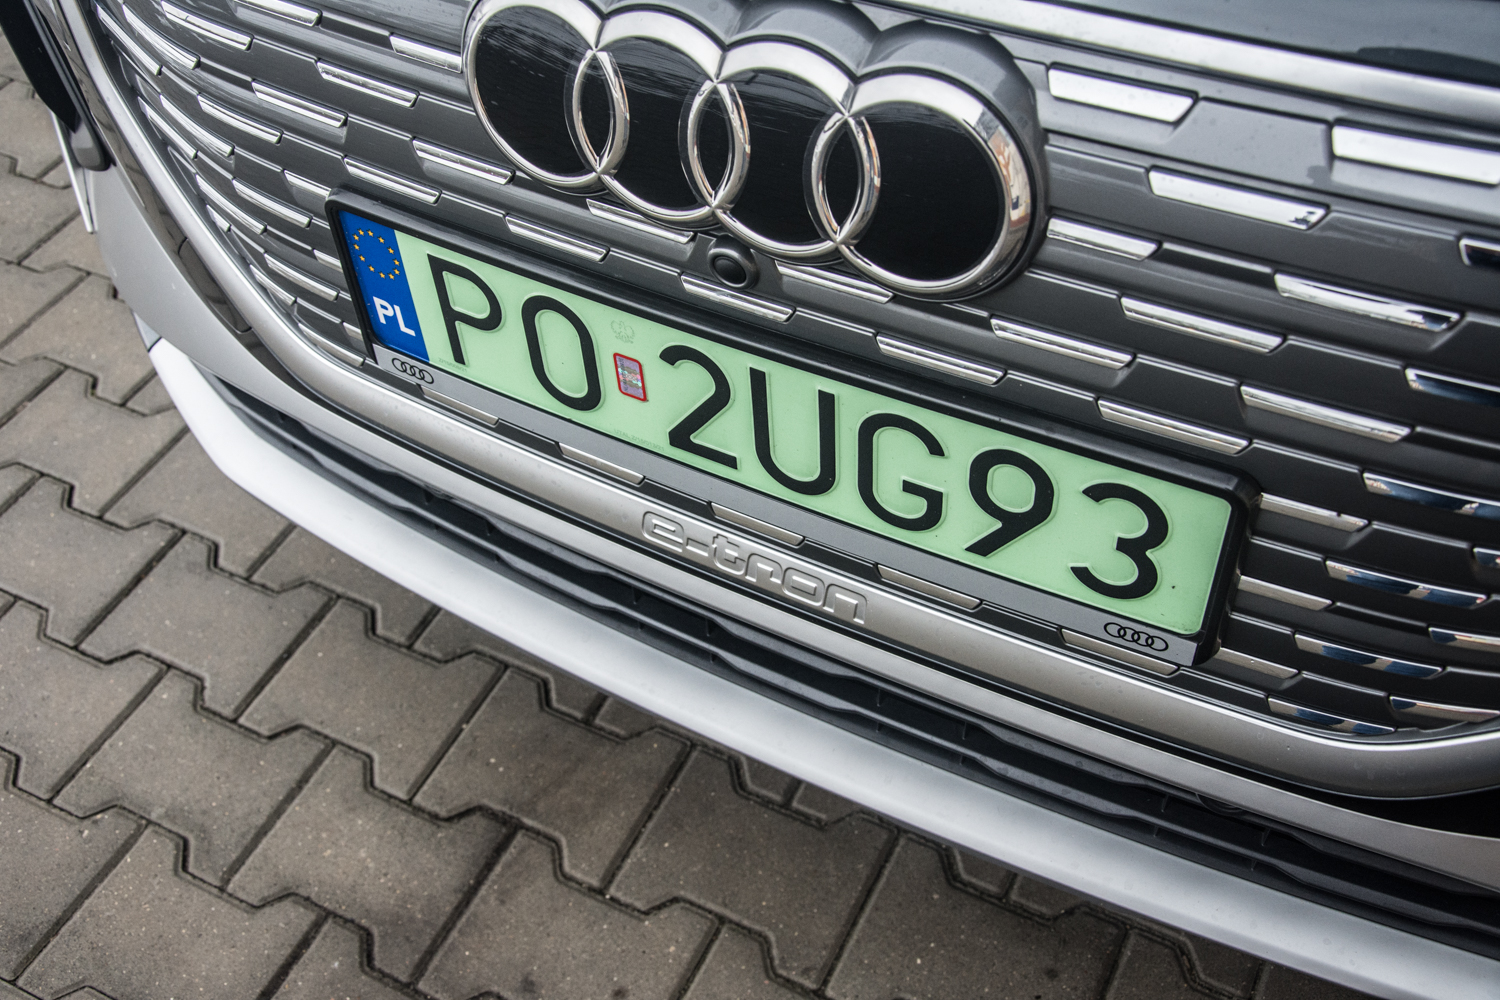tablica: (340, 215, 1223, 634)
